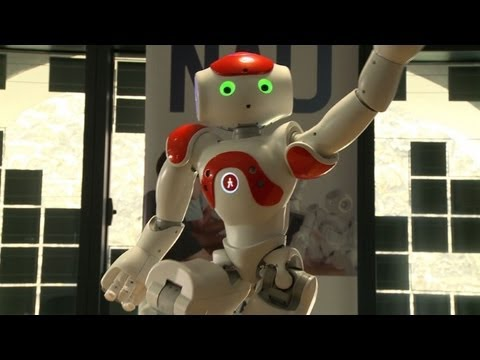nao: (99, 46, 426, 316)
